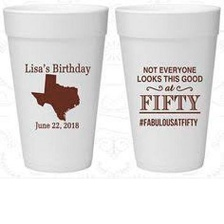paper_cup: (110, 0, 224, 178), (0, 0, 110, 177)
